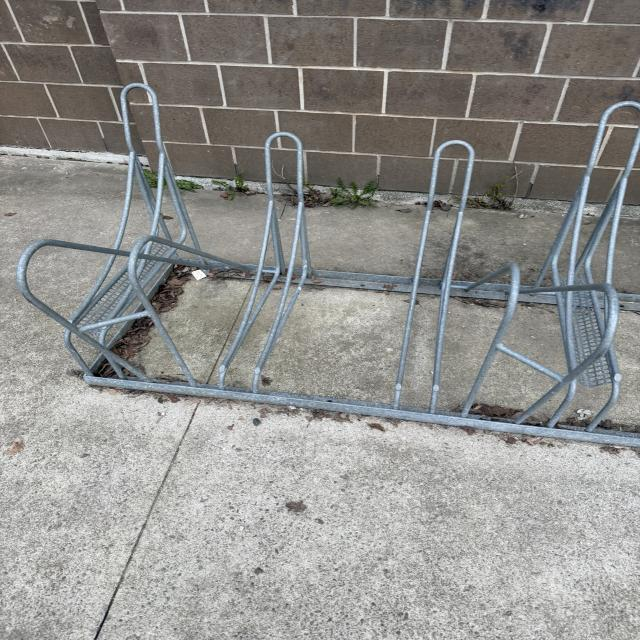Bicycle Rack: (19, 80, 640, 450)
